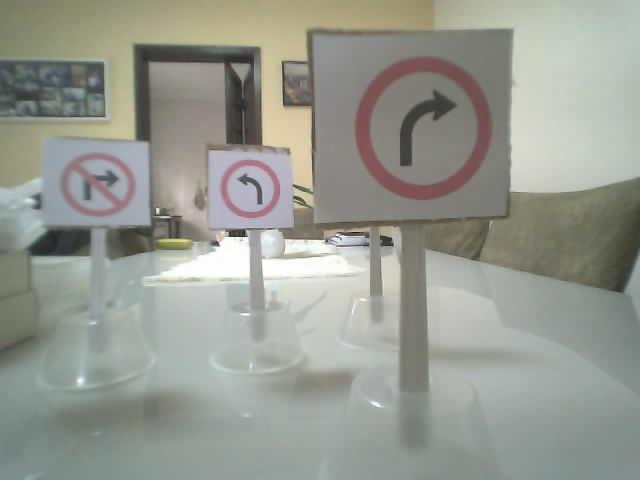R-25a_esquerda: (219, 158, 280, 218)
R-25b_direita: (353, 57, 491, 199)
R-4b_proibido-direita: (60, 151, 134, 216)
